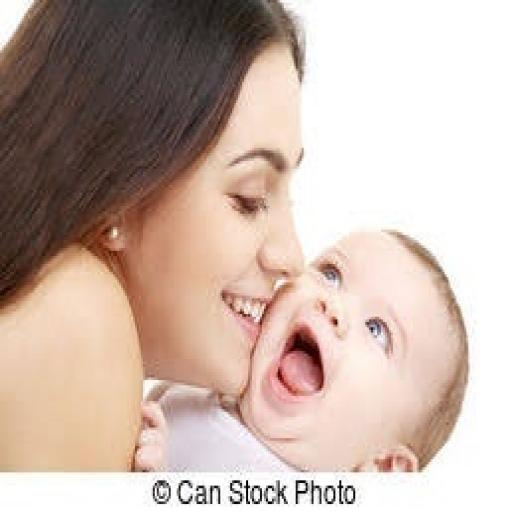laughing: (0, 0, 474, 475)
